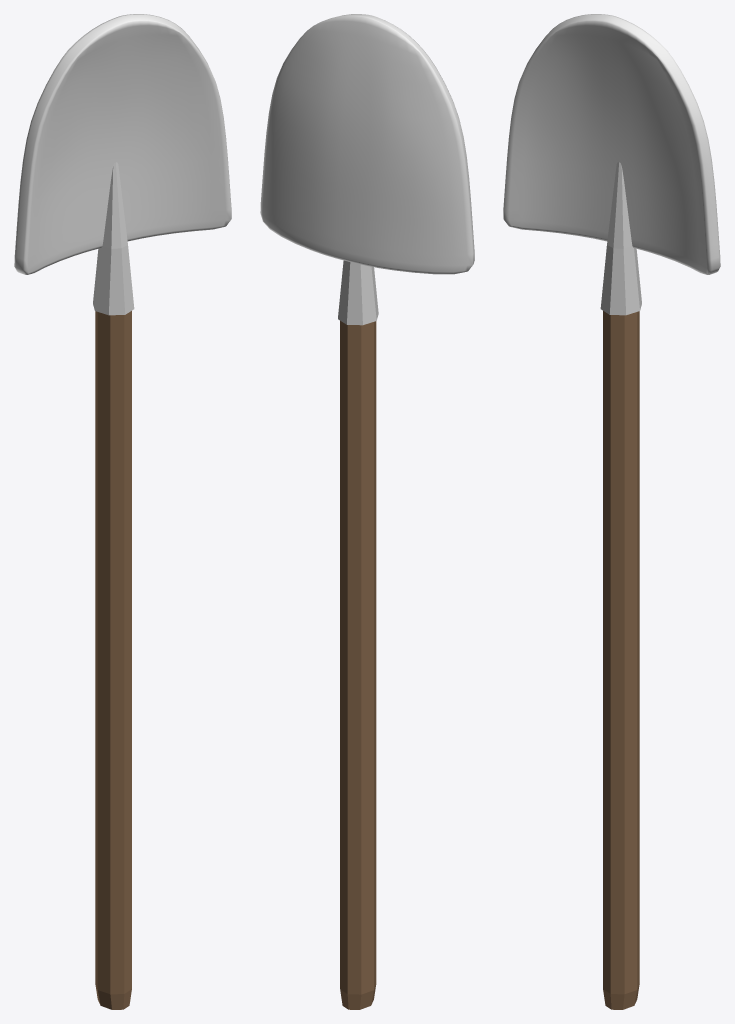
File: Shovel.fbx
The picture shows the model from 3 angles, left to right: view 1: azimuth 30°, elevation 25°; view 2: azimuth 150°, elevation 25°; view 3: azimuth 330°, elevation 25°; orthographic projection.
Parts seen in each view (by area): view 1: ShovelCombined.001, ShovelCombined.002; view 2: ShovelCombined.001, ShovelCombined.002; view 3: ShovelCombined.001, ShovelCombined.002.
Part boxes in pixels (x1,y1,x2,y2): ShovelCombined.001: (14,14,231,274); ShovelCombined.002: (93,162,134,1009); ShovelCombined.001: (260,14,474,274); ShovelCombined.002: (338,260,378,1009); ShovelCombined.001: (503,14,720,274); ShovelCombined.002: (600,162,641,1009).
Size of the model in its own units: 70.84 by 312 by 15.01.
